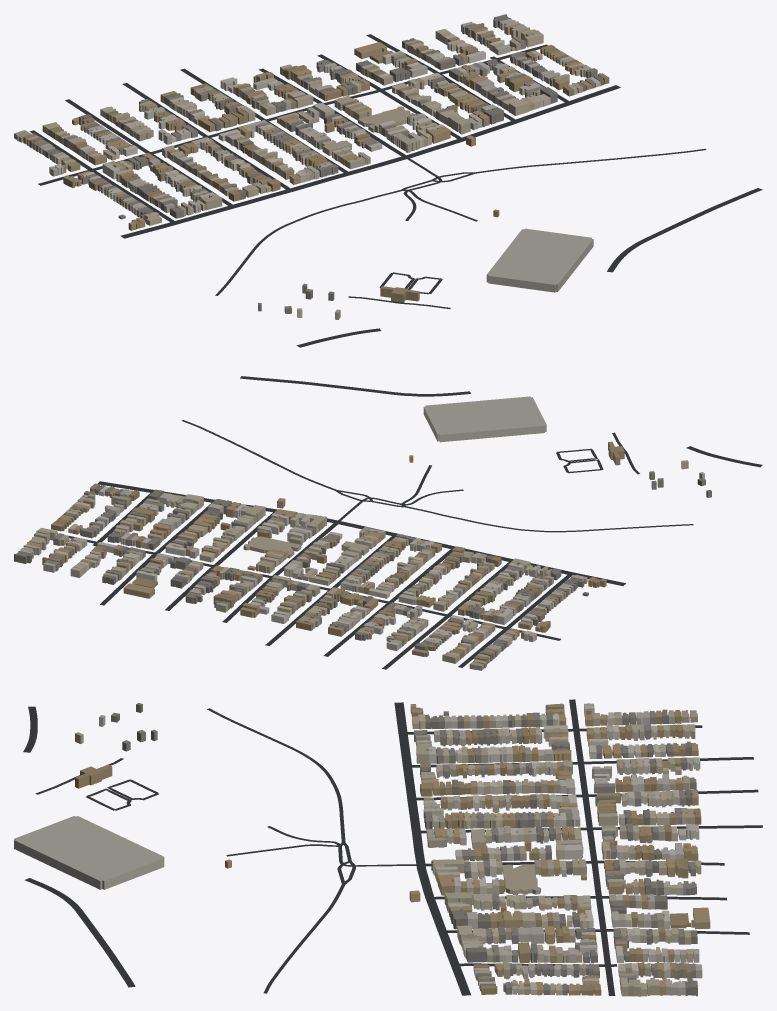
The model's file is tile_6_13.glb.
3 renders of one model, top to bottom at view 1: azimuth 30°, elevation 25°; view 2: azimuth 150°, elevation 25°; view 3: azimuth 270°, elevation 25°, orthographic. The views are drawn at different scales.
Parts seen in each view (by area): view 1: bld_6_13, road_6_13; view 2: bld_6_13, road_6_13; view 3: bld_6_13, road_6_13.
Boxes of the visible parts, x1,y1,x2,y2 form: bld_6_13: (14,14,609,319); road_6_13: (29,34,762,347); bld_6_13: (14,396,711,670); road_6_13: (57,376,762,669); bld_6_13: (14,703,710,996); road_6_13: (23,699,762,995).
Bounding box in the file's own units: 842 × 28.71 × 893.
